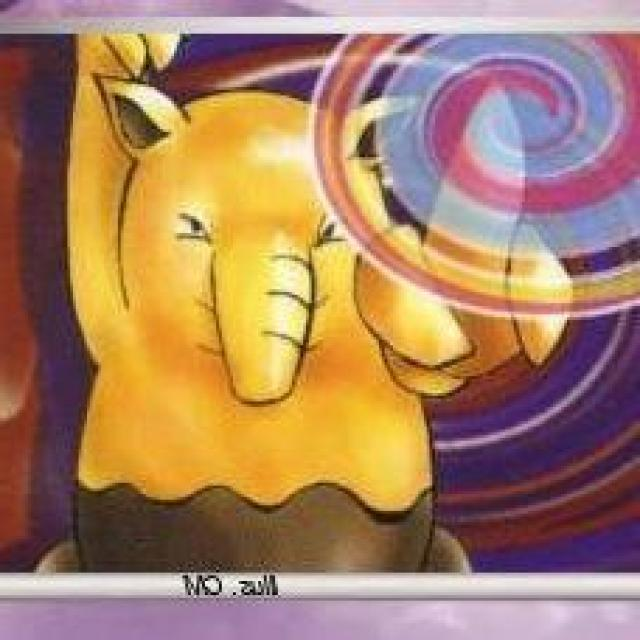Drowzee: (61, 84, 468, 563)
